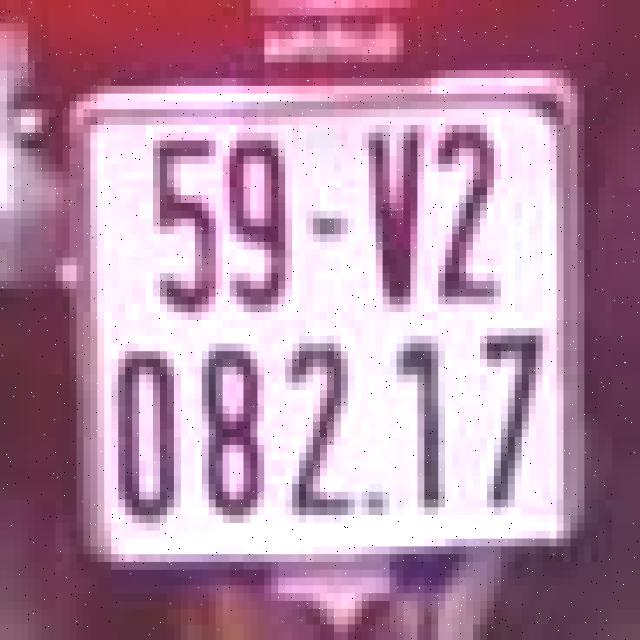0: (101, 328, 184, 531)
1: (393, 328, 435, 507)
2: (435, 109, 511, 312), (278, 336, 348, 515)
5: (132, 132, 216, 328)
7: (466, 316, 543, 519)
8: (198, 340, 268, 534)
9: (223, 125, 299, 328)
V: (358, 113, 428, 316)
